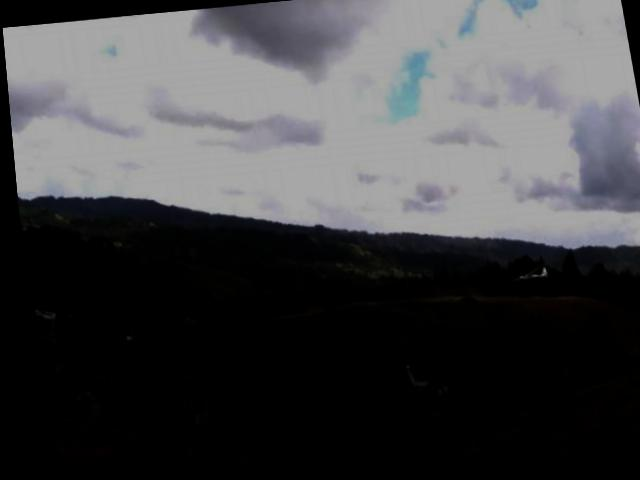iha: (497, 251, 546, 286)
